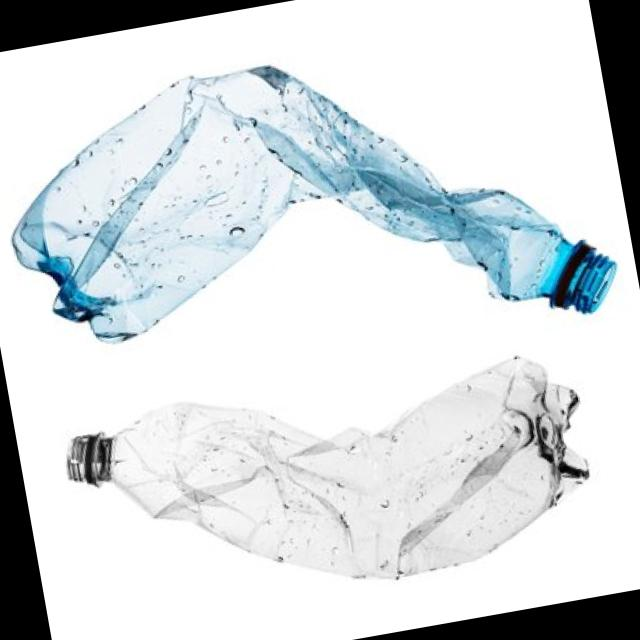plastic_bottle: (3, 37, 624, 371), (56, 335, 610, 618)
